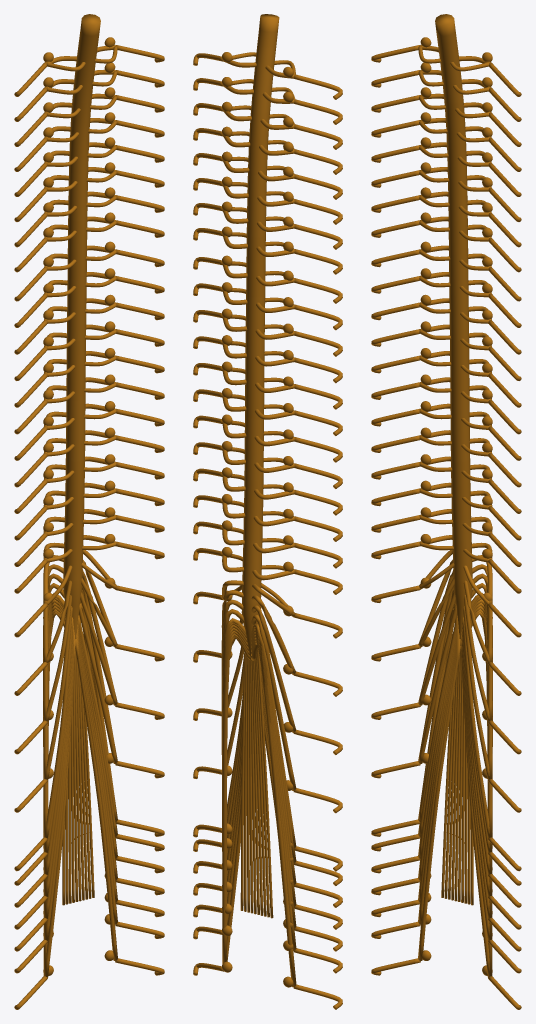
The model's file is spinal-cord-with-nerve-roots-7c8957a4.glb.
3 views of the same model, side by side, from view 1: azimuth 30°, elevation 25°; view 2: azimuth 150°, elevation 25°; view 3: azimuth 330°, elevation 25° (orthographic).
Visible parts, largest first — view 1: Spinal cord ending near L1 with tapered conus, Left Co1 ventral motor root, Right Co1 ventral motor root, Right L5 ventral motor root, Left S5 ventral motor root, Cauda equina root 6, Cauda equina root 7, Right L4 ventral motor root, Left L4 ventral motor root, Right S5 ventral motor root, Cauda equina root 8, Cauda equina root 5 (+25 smaller); view 2: Spinal cord ending near L1 with tapered conus, Left Co1 dorsal sensory root, Right Co1 dorsal sensory root, Right L4 dorsal sensory root, Cauda equina root 1, Cauda equina root 2, Cauda equina root 3, Cauda equina root 7, Cauda equina root 6, Cauda equina root 4, Cauda equina root 5, Cauda equina root 10 (+13 smaller); view 3: Spinal cord ending near L1 with tapered conus, Right Co1 ventral motor root, Left Co1 ventral motor root, Left L5 ventral motor root, Right S5 ventral motor root, Cauda equina root 5, Cauda equina root 4, Left L4 ventral motor root, Right L4 ventral motor root, Left S5 ventral motor root, Cauda equina root 3, Cauda equina root 6 (+25 smaller).
Boxes of the visible parts, box(x1,y1,x2,y2) form: Spinal cord ending near L1 with tapered conus: box(63, 14, 100, 638); Left Co1 ventral motor root: box(75, 639, 117, 961); Right Co1 ventral motor root: box(46, 639, 75, 974); Right L5 ventral motor root: box(46, 617, 73, 836); Left S5 ventral motor root: box(76, 634, 117, 922); Cauda equina root 6: box(74, 649, 81, 901); Cauda equina root 7: box(76, 654, 84, 900); Right L4 ventral motor root: box(46, 606, 72, 778); Left L4 ventral motor root: box(79, 603, 116, 763); Right S5 ventral motor root: box(46, 635, 74, 938); Cauda equina root 8: box(78, 669, 87, 899); Cauda equina root 5: box(73, 664, 78, 901); Spinal cord ending near L1 with tapered conus: box(241, 14, 279, 661); Left Co1 dorsal sensory root: box(222, 636, 250, 969); Right Co1 dorsal sensory root: box(251, 641, 296, 987); Right L4 dorsal sensory root: box(251, 615, 296, 790); Cauda equina root 1: box(257, 648, 273, 918); Cauda equina root 2: box(256, 652, 269, 917); Cauda equina root 3: box(254, 658, 266, 916); Cauda equina root 7: box(248, 659, 253, 913); Cauda equina root 6: box(250, 660, 256, 914); Cauda equina root 4: box(253, 660, 263, 915); Cauda equina root 5: box(251, 660, 259, 914); Cauda equina root 10: box(240, 652, 245, 910); Spinal cord ending near L1 with tapered conus: box(435, 14, 472, 638); Right Co1 ventral motor root: box(418, 639, 460, 961); Left Co1 ventral motor root: box(460, 639, 489, 974); Left L5 ventral motor root: box(462, 617, 489, 836); Right S5 ventral motor root: box(418, 634, 459, 922); Cauda equina root 5: box(454, 649, 461, 901); Cauda equina root 4: box(451, 654, 459, 900); Left L4 ventral motor root: box(463, 606, 489, 778); Right L4 ventral motor root: box(419, 603, 456, 763); Left S5 ventral motor root: box(461, 635, 489, 938); Cauda equina root 3: box(448, 669, 457, 899); Cauda equina root 6: box(457, 664, 462, 901).
Size of the model in its own units: 0.1067 by 0.6694 by 0.0393.
1 material, 1 textured.
